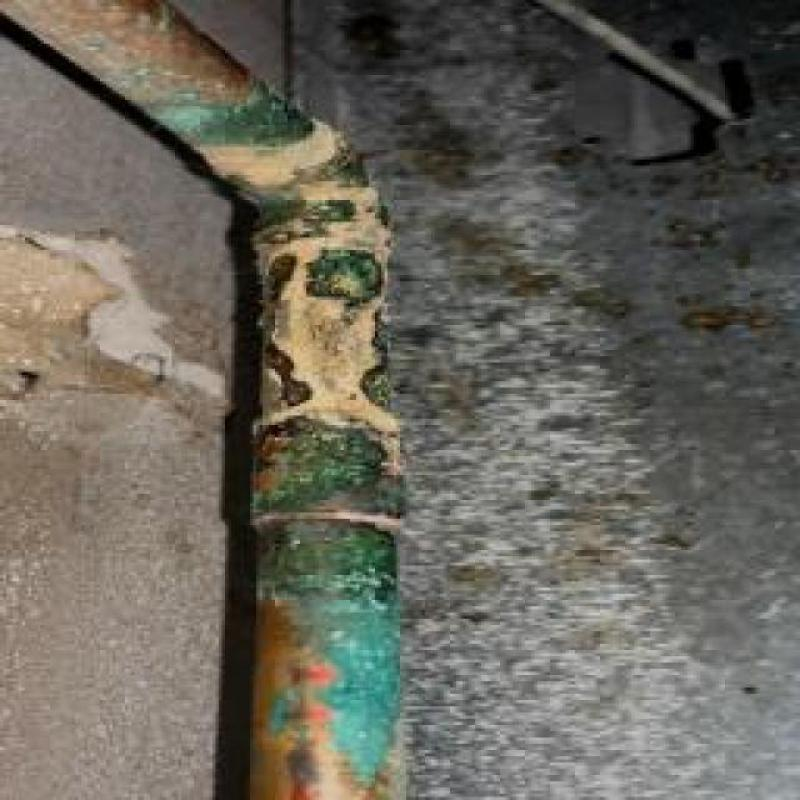corrosion: (258, 239, 400, 699), (169, 120, 400, 244)
